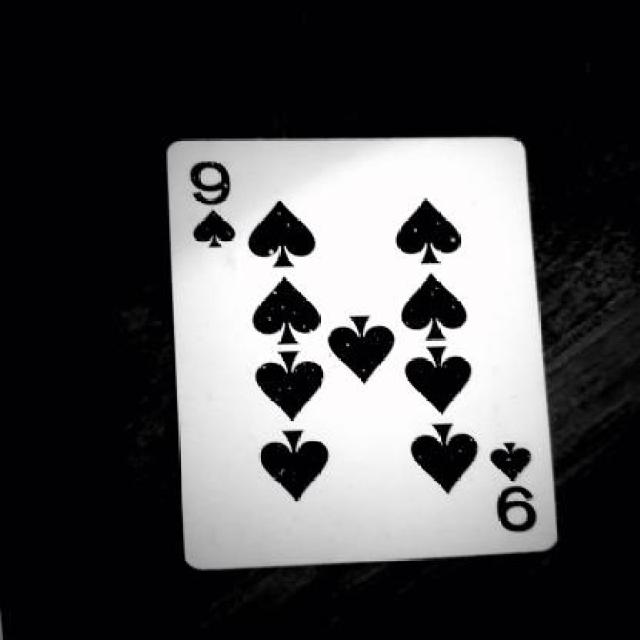9S: (480, 427, 571, 536), (178, 155, 233, 259)
